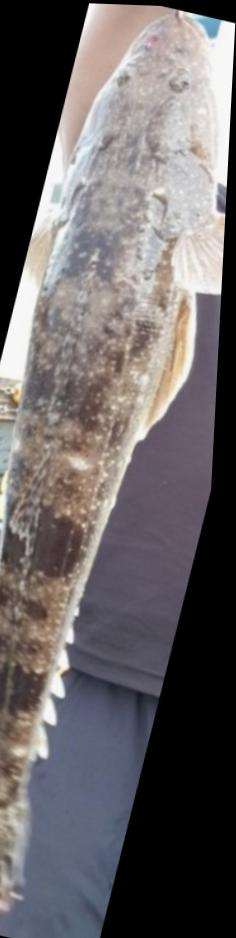fish: (0, 6, 228, 933)
